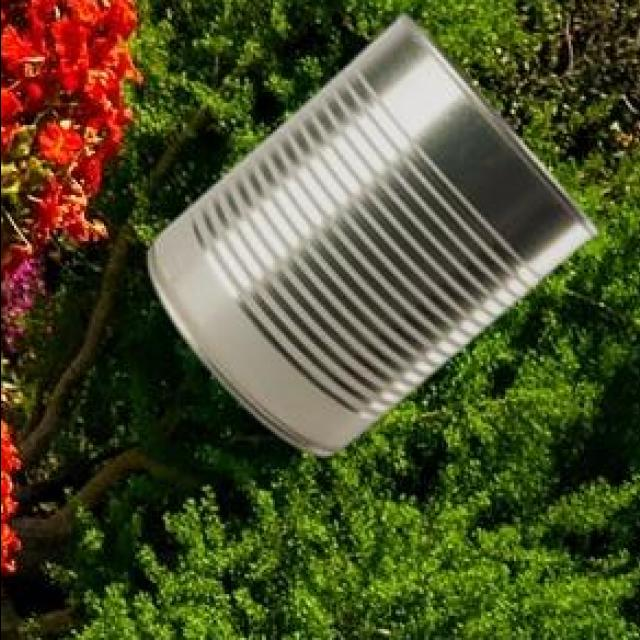logam: (150, 12, 599, 453)
